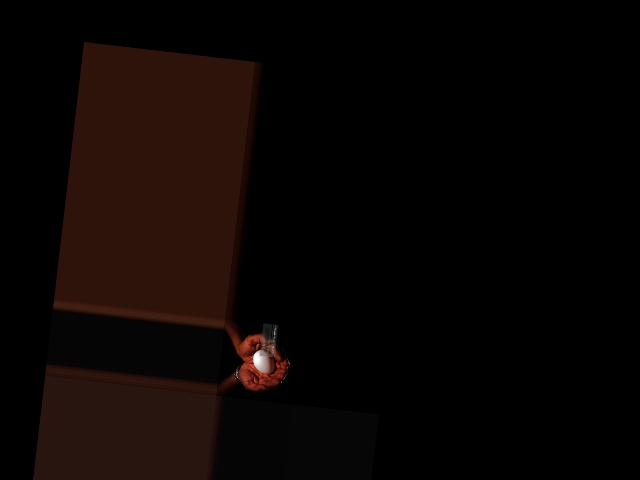egg: (252, 350, 277, 375)
